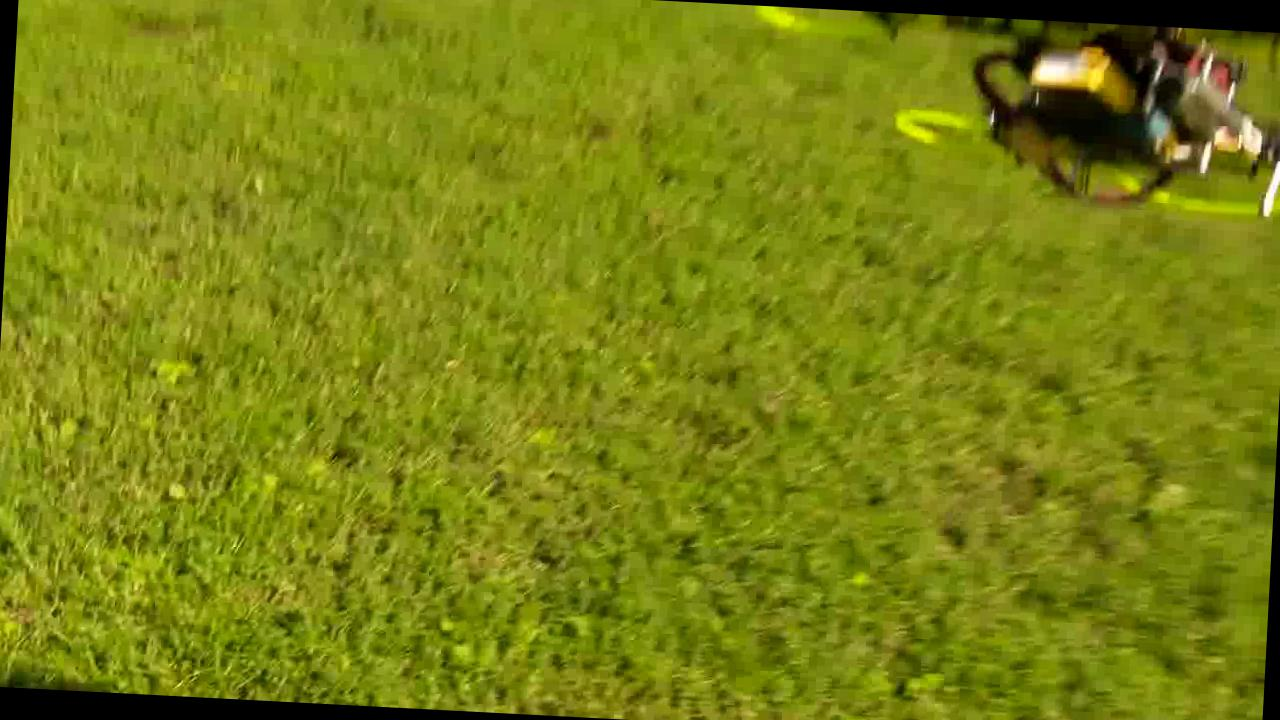drone: (755, 6, 1279, 253)
